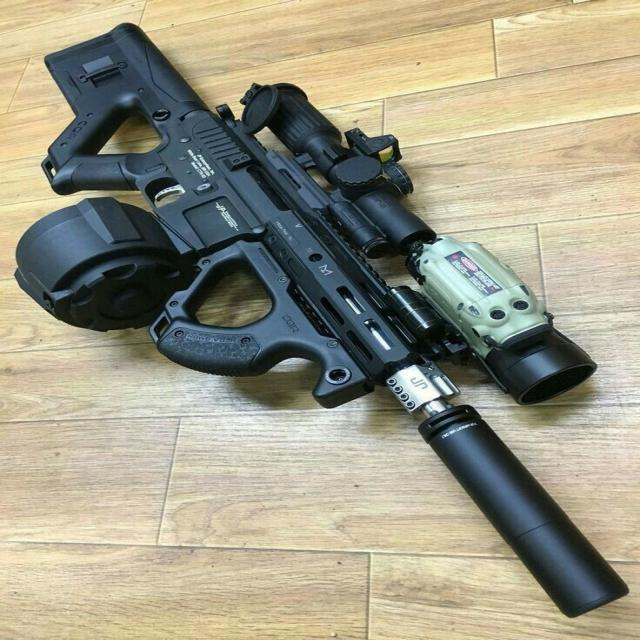firearm: (12, 24, 628, 620)
